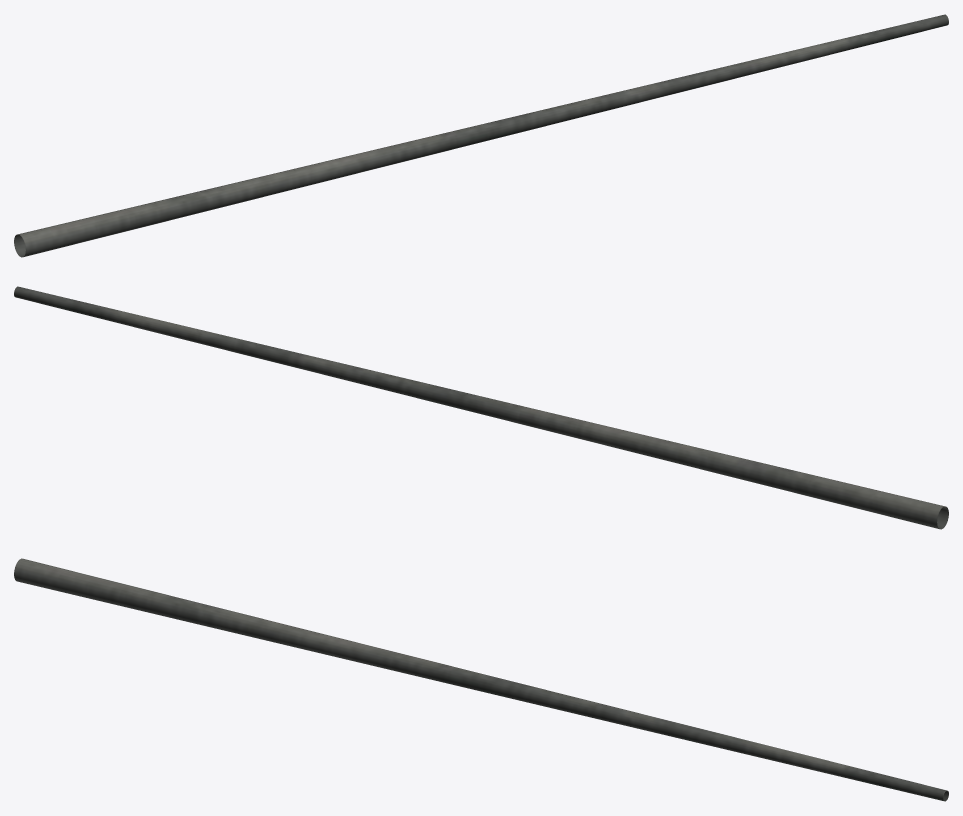
File: armLevel3-v1.glb
The picture shows the model from 3 angles, top to bottom: view 1: azimuth 30°, elevation 25°; view 2: azimuth 150°, elevation 25°; view 3: azimuth 330°, elevation 25°; orthographic projection.
Visible parts, largest first — view 1: armLevel3-v1; view 2: armLevel3-v1; view 3: armLevel3-v1.
Part boxes in pixels (left/top/right/bottom): armLevel3-v1: left=14, top=14, right=948, bottom=257; armLevel3-v1: left=14, top=286, right=948, bottom=529; armLevel3-v1: left=14, top=558, right=948, bottom=801.
Size of the model in its own units: 9.14 by 0.2032 by 0.2032.
Materials: 1 (1 with a texture image).
